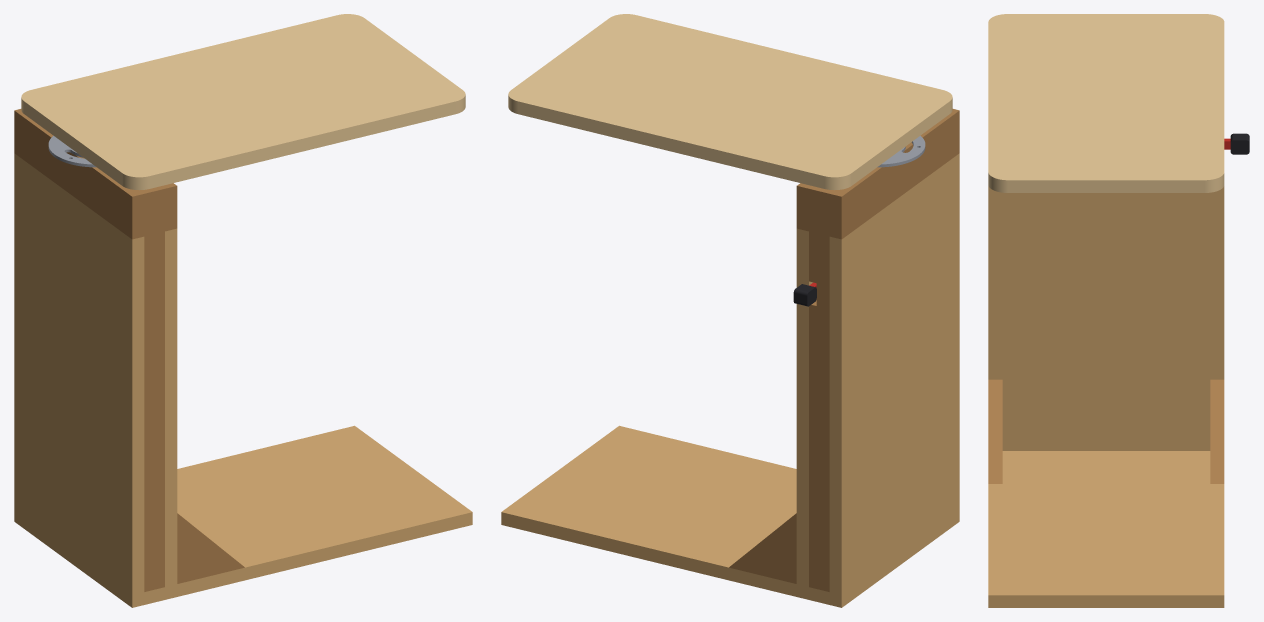
Rendered from assembly_low.glb.
3 views of the same model, side by side, from view 1: azimuth 30°, elevation 25°; view 2: azimuth 150°, elevation 25°; view 3: azimuth 270°, elevation 25° (orthographic).
Visible parts, largest first — view 1: stand_board_A, tabletop, base, spacer_left, swivel_block, stand_board_B, gusset_left, flange; view 2: stand_board_A, tabletop, base, spacer_right, swivel_block, stand_board_B, gusset_right, flange; view 3: stand_board_B, tabletop, base, gusset_left, gusset_right, lever_knob.
Boxes of the visible parts, box(x1,y1,x2,y2) form: stand_board_A: box(14, 153, 144, 594); tabletop: box(21, 14, 465, 190); base: box(14, 425, 472, 607); spacer_left: box(144, 231, 164, 591); swivel_block: box(14, 109, 177, 239); stand_board_B: box(165, 228, 177, 586); gusset_left: box(177, 513, 244, 583); flange: box(48, 135, 96, 167); stand_board_A: box(829, 153, 959, 594); tabletop: box(508, 14, 952, 190); base: box(501, 425, 959, 607); spacer_right: box(809, 231, 829, 591); swivel_block: box(796, 109, 959, 239); stand_board_B: box(796, 228, 812, 586); gusset_right: box(729, 513, 796, 583); flange: box(877, 135, 925, 167); stand_board_B: box(988, 186, 1224, 450); tabletop: box(988, 14, 1224, 192); base: box(988, 451, 1224, 607); gusset_left: box(988, 379, 1002, 483); gusset_right: box(1210, 379, 1224, 483); lever_knob: box(1230, 133, 1249, 154).
Bounding box in the file's own units: 527 × 600 × 332.
